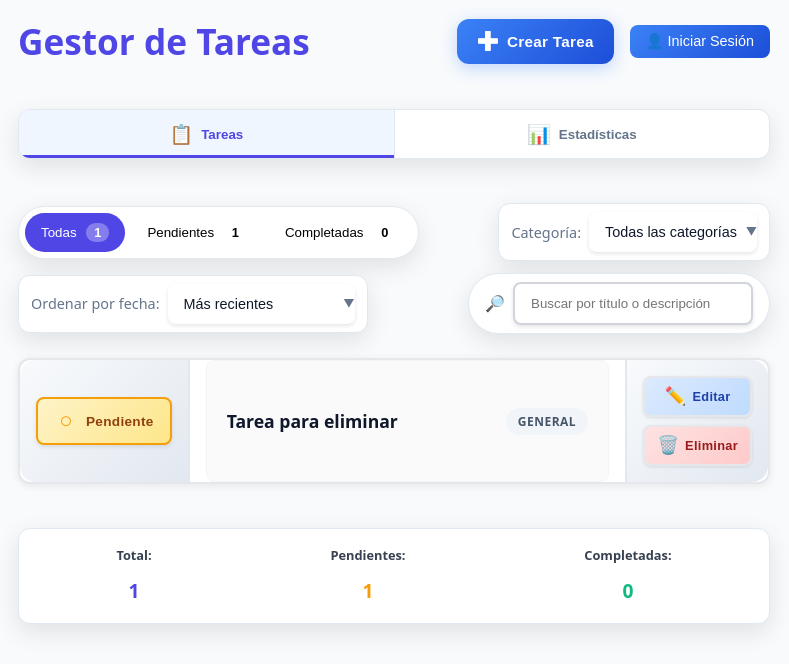
Gestor de Tareas - App Principal › 5. Eliminar Tarea › debe cancelar la eliminación al hacer clic en cancelar
Check: the heading "Tarea para eliminar" is shown, box [227, 409, 398, 433]
# Abrir modal de confirmación
What coordinates should you click on to do the following:
click the button with aria-label "eliminar tarea"
I would click on:
 (698, 446)
Its box is [643, 425, 752, 466].
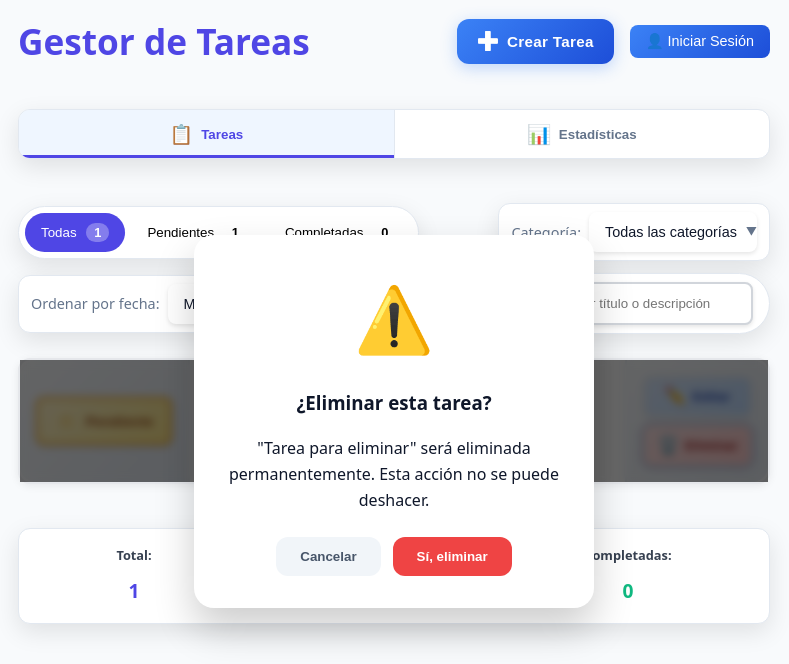
# Cancelar eliminación
What coordinates should you click on to do the following:
click the button "Cancelar"
I would click on:
 (328, 557)
Its box is [276, 537, 381, 576].
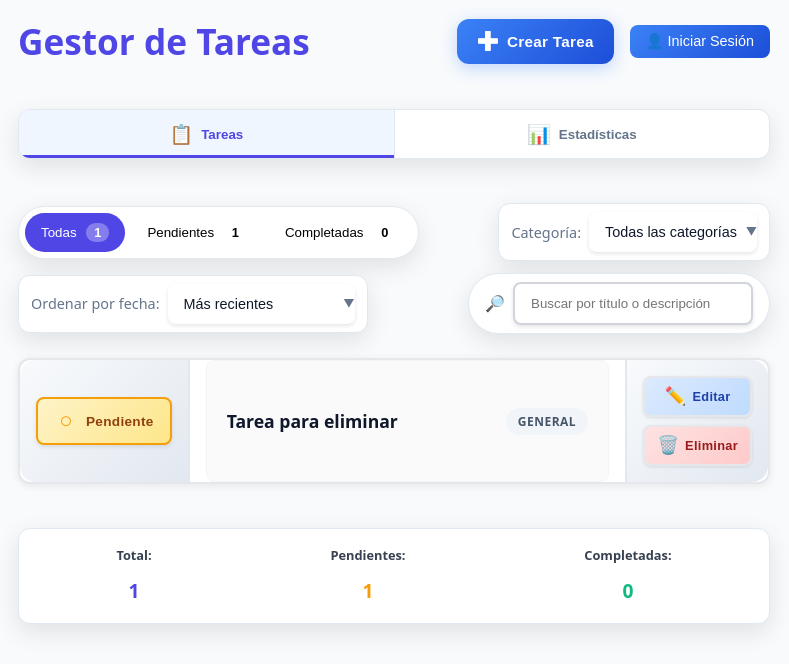
Check: the heading "Tarea para eliminar" is shown, box [227, 409, 398, 433]
Check: the heading "¿Eliminar esta tarea?" is gone
